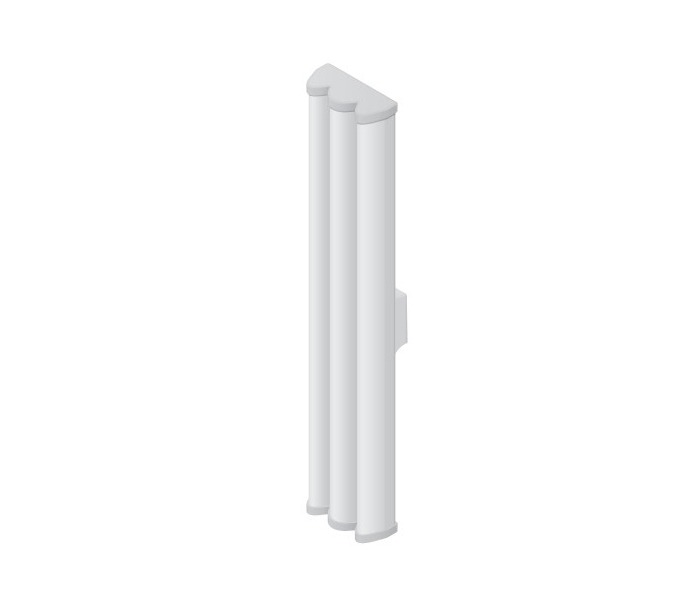sa: (290, 38, 417, 551)
